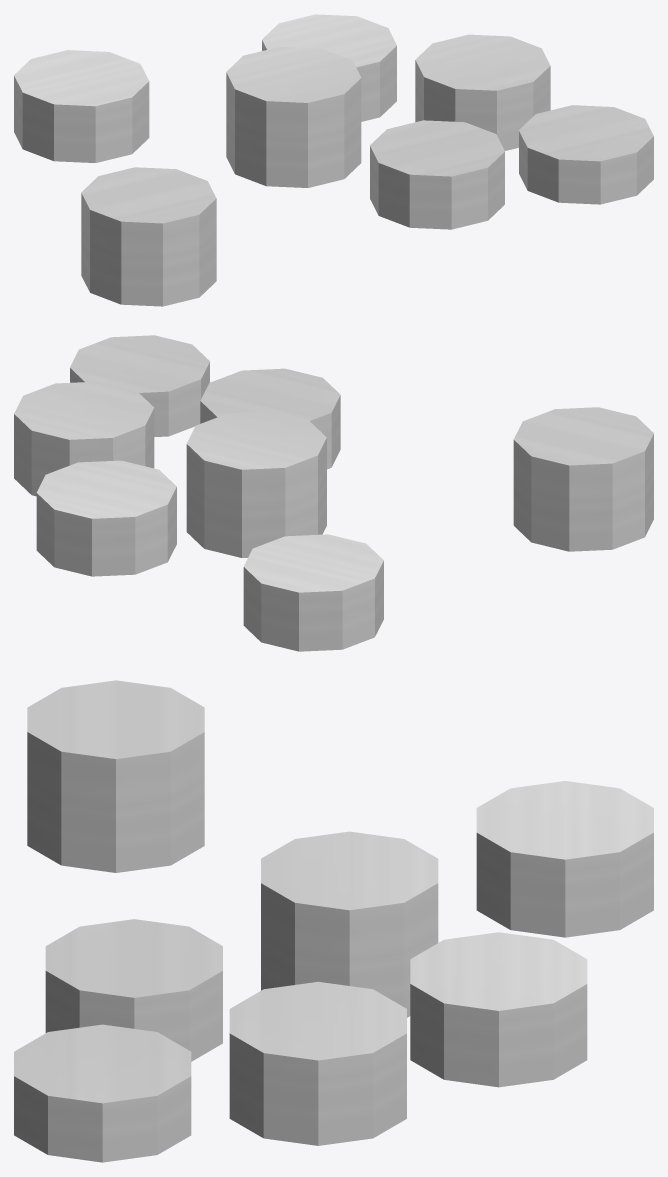
Rendered from item_silver.obj.
3 views of the same model, one above another, from view 1: azimuth 30°, elevation 25°; view 2: azimuth 150°, elevation 25°; view 3: azimuth 270°, elevation 25° (orthographic). The views are drawn at different scales.
Parts seen in each view (by area): view 1: item_silver; view 2: item_silver; view 3: item_silver.
Boxes of the visible parts, <box> form: item_silver: <box>14,14,653,306</box>; item_silver: <box>14,335,653,651</box>; item_silver: <box>14,680,653,1162</box>.
Bounding box in the file's own units: 0.7011 × 0.1036 × 0.5148.
